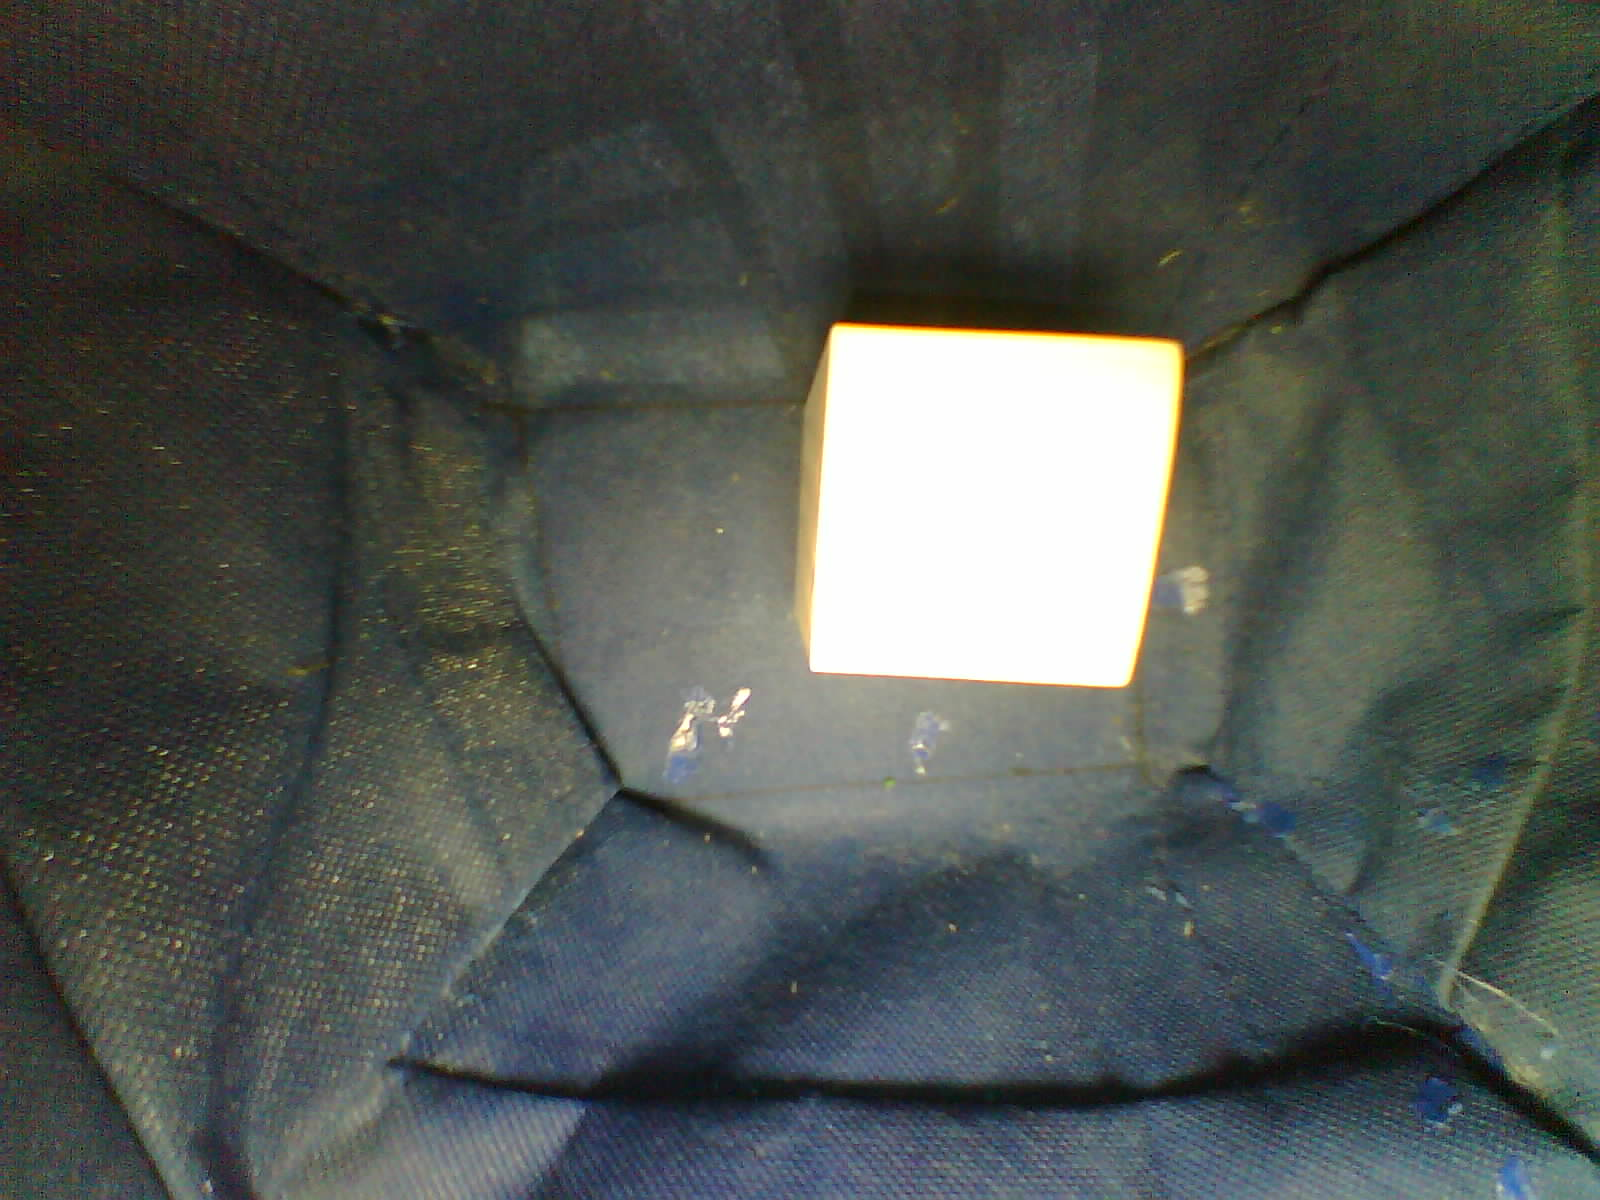cube-hard: (772, 311, 1191, 711)
